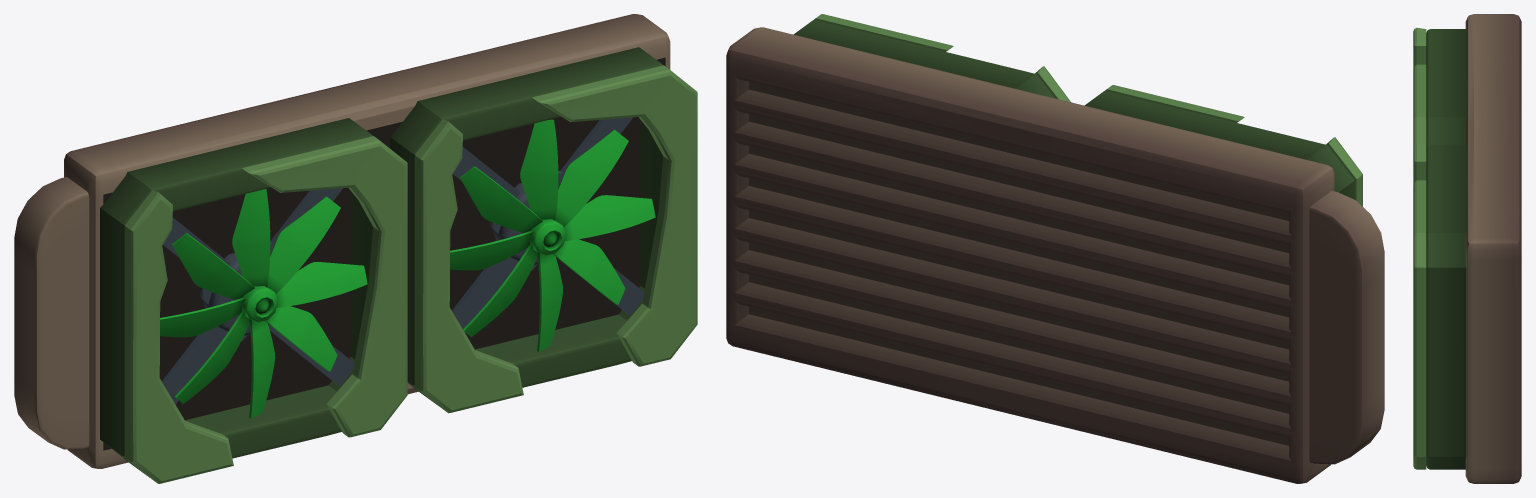
The model's file is Cooling_systems_lvl_10_V05.fbx.
The picture shows the model from 3 angles, left to right: view 1: azimuth 30°, elevation 25°; view 2: azimuth 150°, elevation 25°; view 3: azimuth 270°, elevation 25°; orthographic projection. The views are drawn at different scales.
Visible parts, largest first — view 1: Body_Cooling, Fan_Cooling_01.001, Fan_Cooling_01; view 2: Body_Cooling; view 3: Body_Cooling.
Boxes of the visible parts, box(x1,y1,x2,y2) form: Body_Cooling: box(14, 14, 697, 483); Fan_Cooling_01.001: box(450, 119, 655, 351); Fan_Cooling_01: box(160, 189, 367, 418); Body_Cooling: box(726, 14, 1384, 483); Body_Cooling: box(1413, 14, 1521, 483).
Bounding box in the file's own units: 119 × 53.89 × 21.63.
